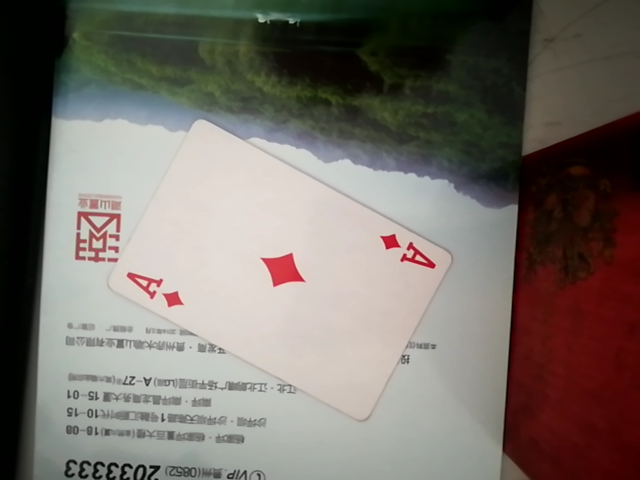fk a: (95, 106, 484, 409)
